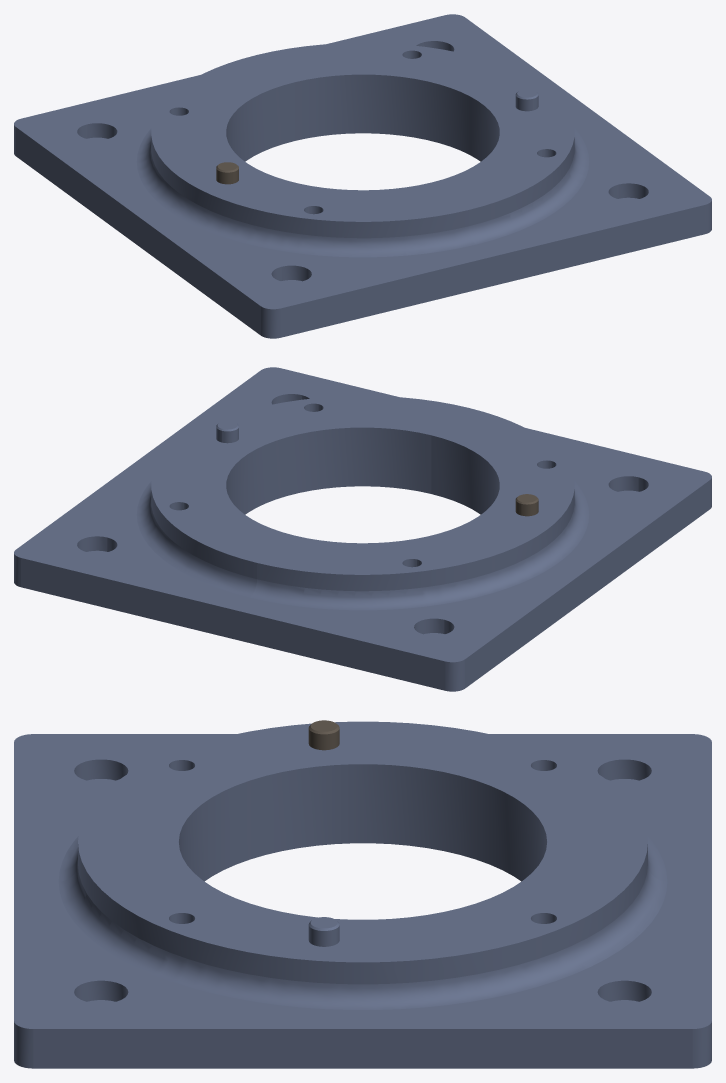
3 renders of one model, top to bottom at view 1: azimuth 30°, elevation 25°; view 2: azimuth 150°, elevation 25°; view 3: azimuth 270°, elevation 25°, orthographic. The views are drawn at different scales.
Visible parts, largest first — view 1: empty_2; view 2: empty_2; view 3: empty_2, empty_3, empty_4.
Boxes of the visible parts, x1=… form: empty_2: x1=14, y1=14, x2=711, y2=338; empty_2: x1=14, y1=367, x2=711, y2=691; empty_2: x1=14, y1=721, x2=711, y2=1068; empty_3: x1=308, y1=720, x2=339, y2=750; empty_4: x1=308, y1=917, x2=339, y2=946.
Size of the model in its own units: 180 by 27.5 by 180.
